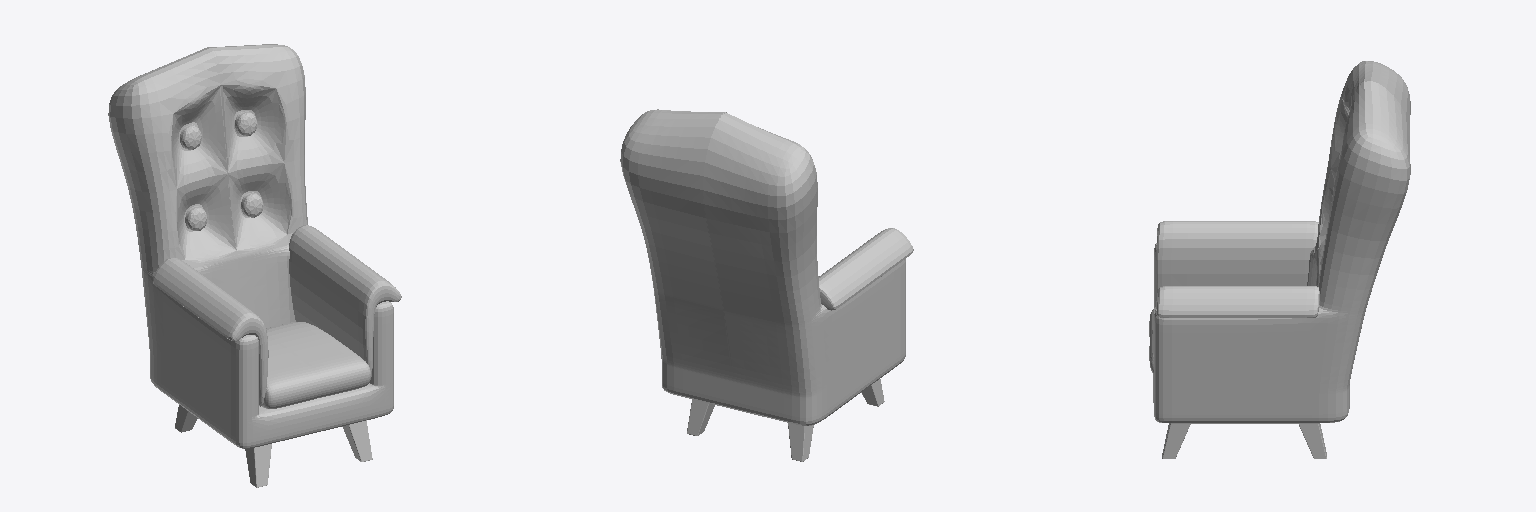
File: sc1_chair.obj
3 views of the same model, side by side, from view 1: azimuth 30°, elevation 25°; view 2: azimuth 150°, elevation 25°; view 3: azimuth 270°, elevation 25° (orthographic).
Visible parts, largest first — view 1: Chair, Arm_Cushion, Cushion, Legs; view 2: Chair, Arm_Cushion, Legs; view 3: Chair, Arm_Cushion, Legs.
Part boxes in pixels (x1,y1,x2,y2): Chair: (108, 44, 393, 448); Arm_Cushion: (153, 225, 401, 406); Cushion: (262, 322, 370, 408); Legs: (175, 405, 372, 487); Chair: (620, 109, 905, 425); Arm_Cushion: (819, 228, 913, 310); Legs: (687, 379, 884, 461); Chair: (1153, 61, 1410, 423); Arm_Cushion: (1156, 221, 1319, 317); Legs: (1162, 423, 1326, 458).
Bounding box in the file's own units: 2.31 × 4.24 × 2.87.